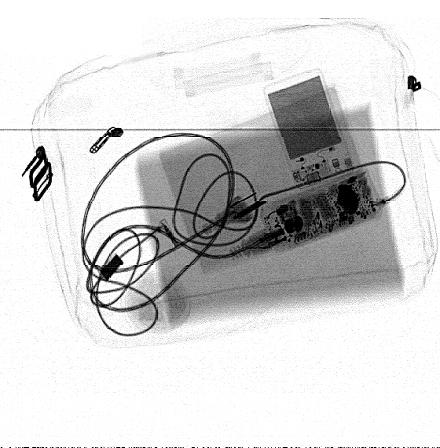Powerbank: (261, 66, 356, 191)
